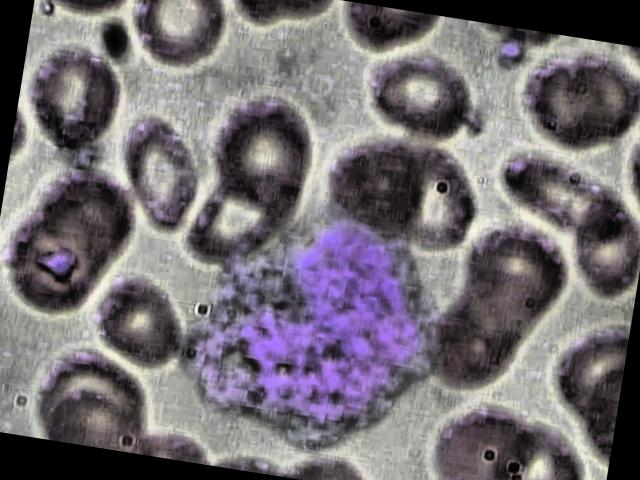RBC: (492, 143, 638, 246), (210, 86, 326, 212), (354, 44, 484, 151), (179, 159, 302, 272), (23, 33, 124, 158), (110, 111, 210, 235), (90, 254, 190, 378), (420, 389, 545, 480), (120, 0, 234, 95)
WBC: (170, 194, 458, 454)
